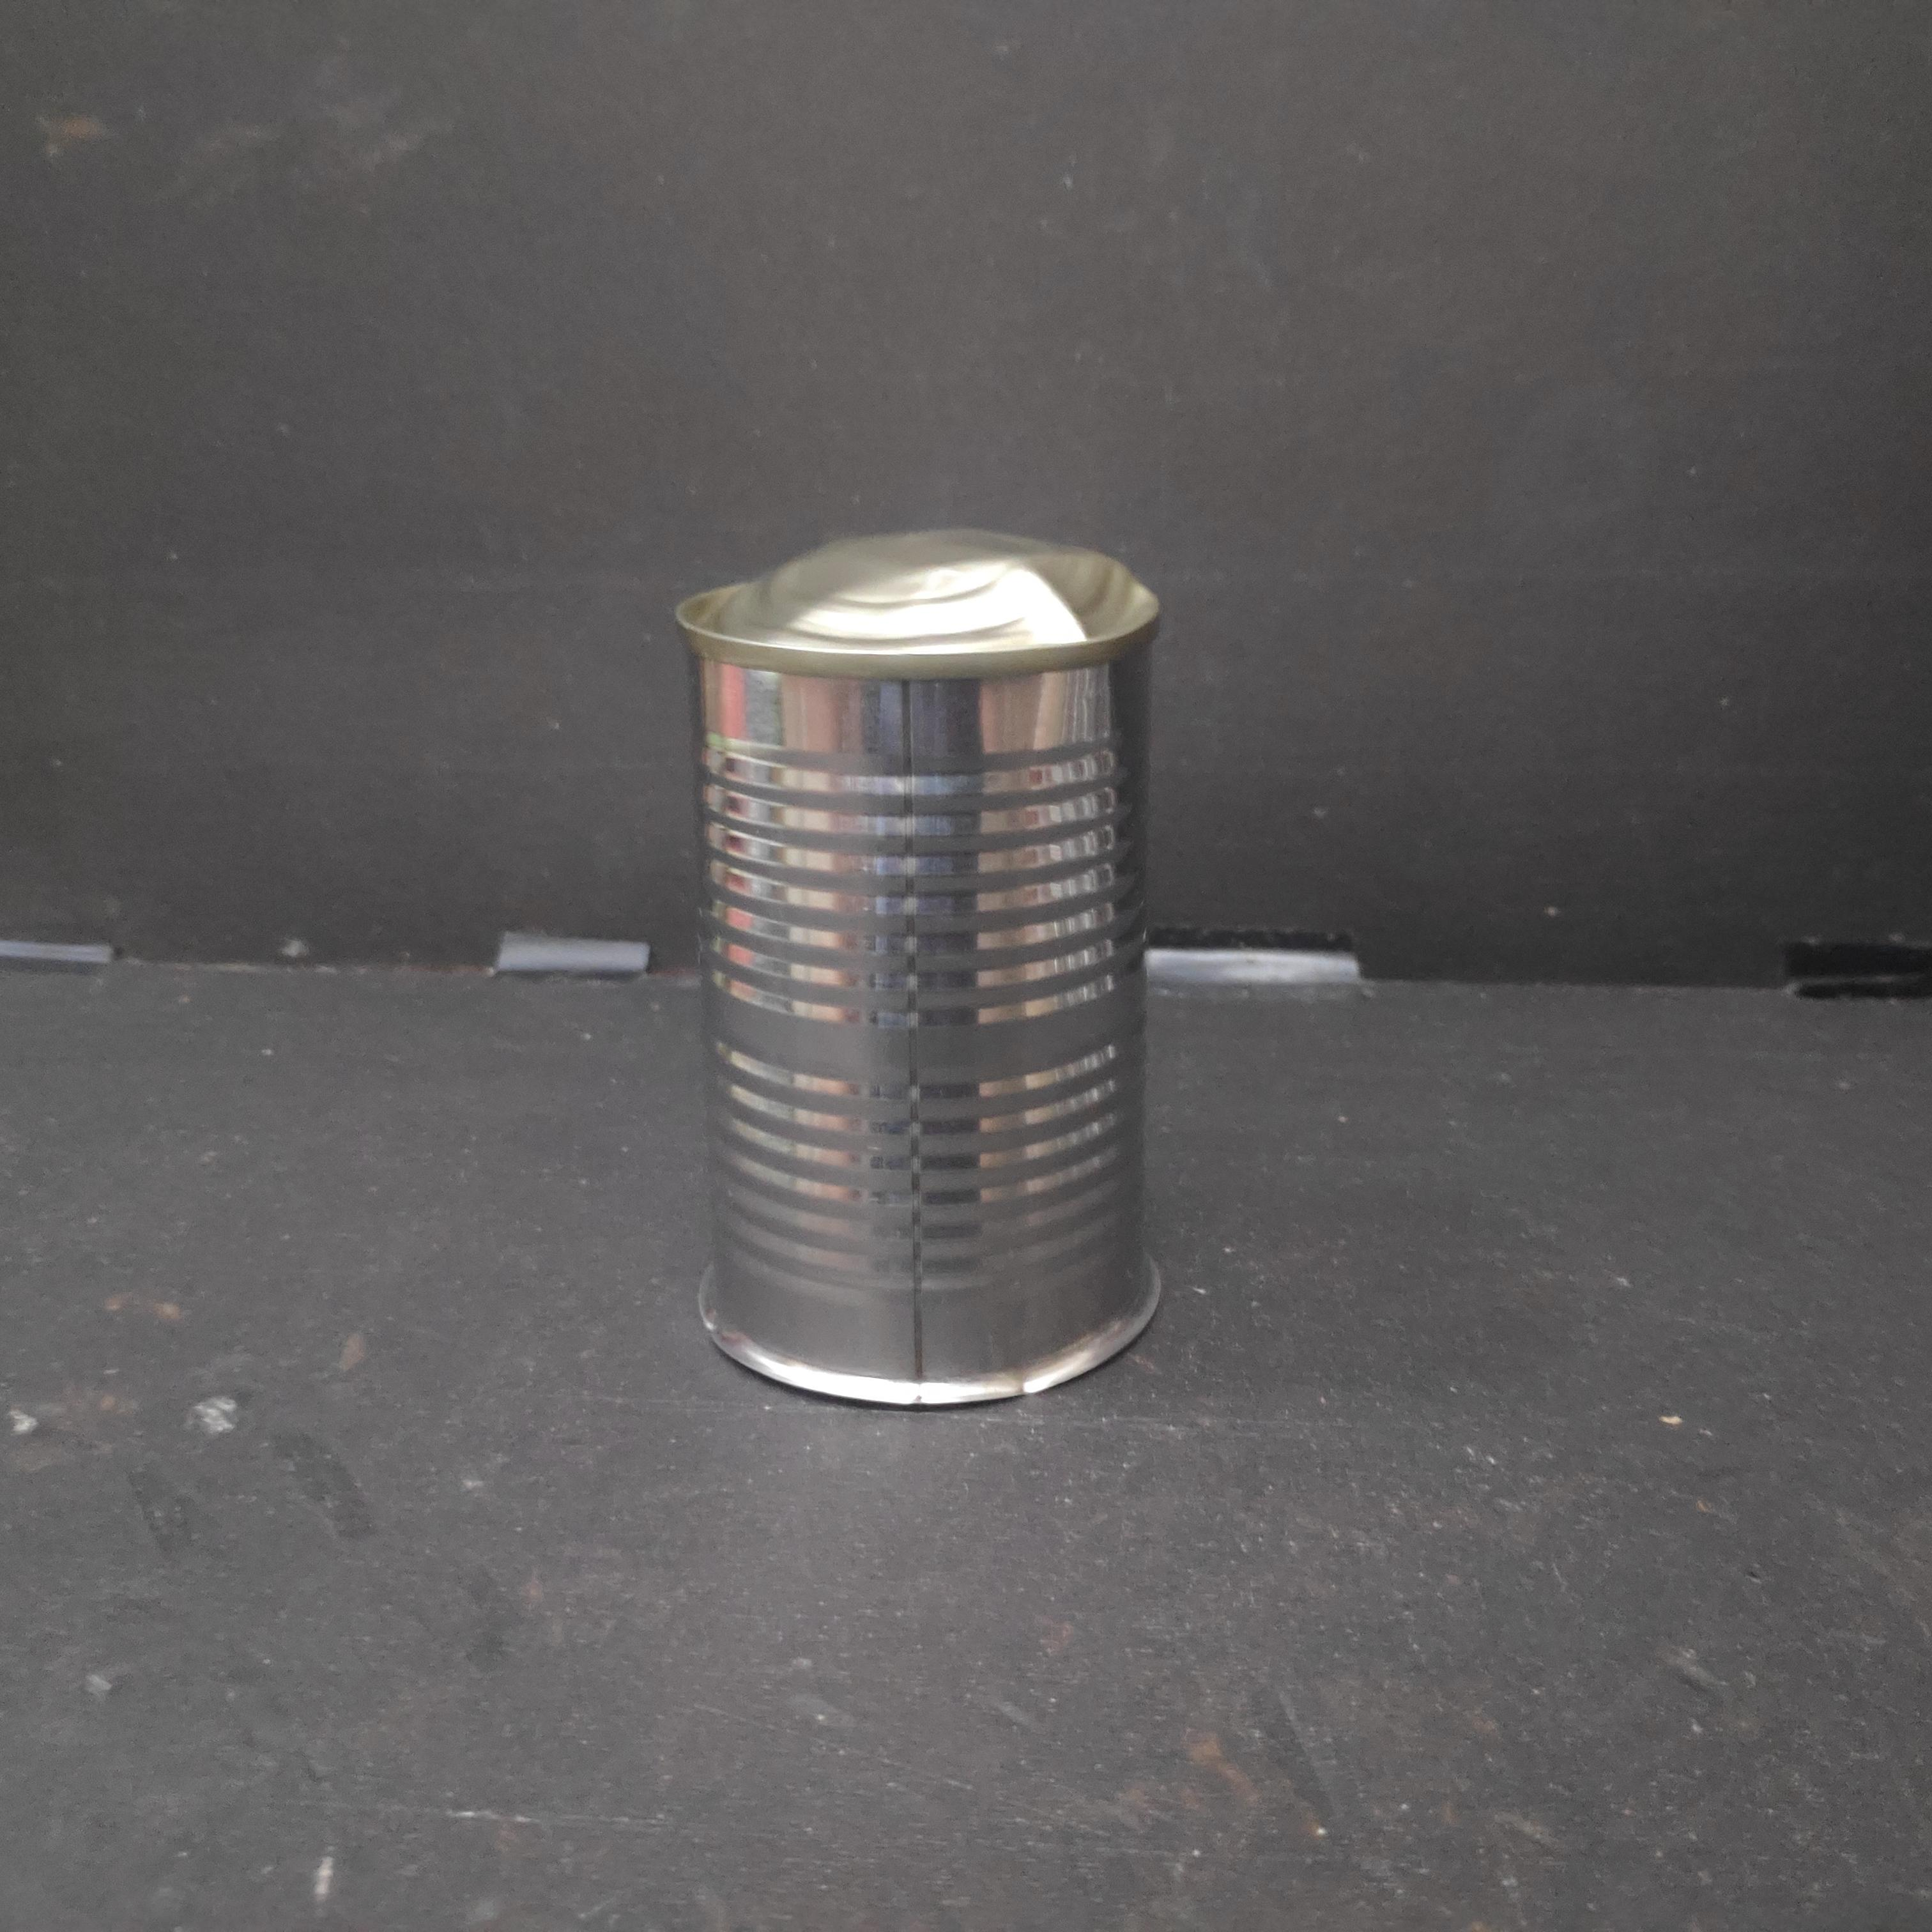Critical Defect: (665, 518, 1173, 1422)
